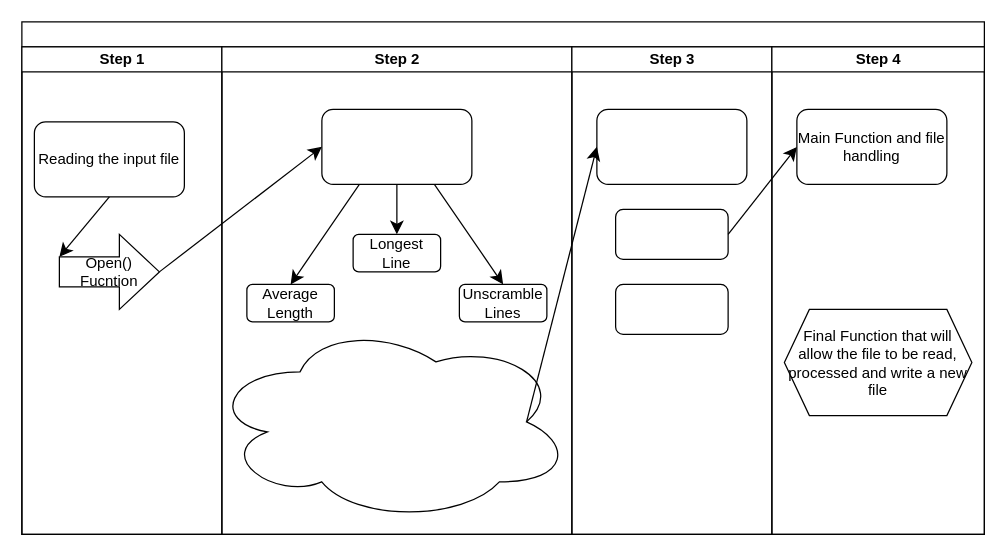
Image size: 1006x556. Some labels were removed from this diagram. Here are the shapes that lost their labels. From the top down, the centre of each, then its label:
point 396,146: Processing the File
point 671,146: Writing the output
point 671,233: Create New file
point 671,308: Includes all variables
point 390,421: Var = average_length sorted_lines longest_line
